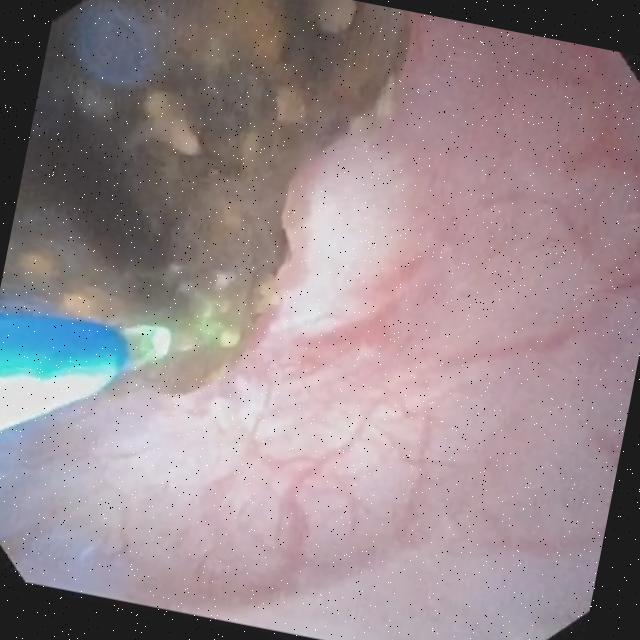laser-fibre: (120, 326, 169, 368)
laser_dot: (196, 308, 229, 346)
stone-new: (0, 0, 406, 392)
